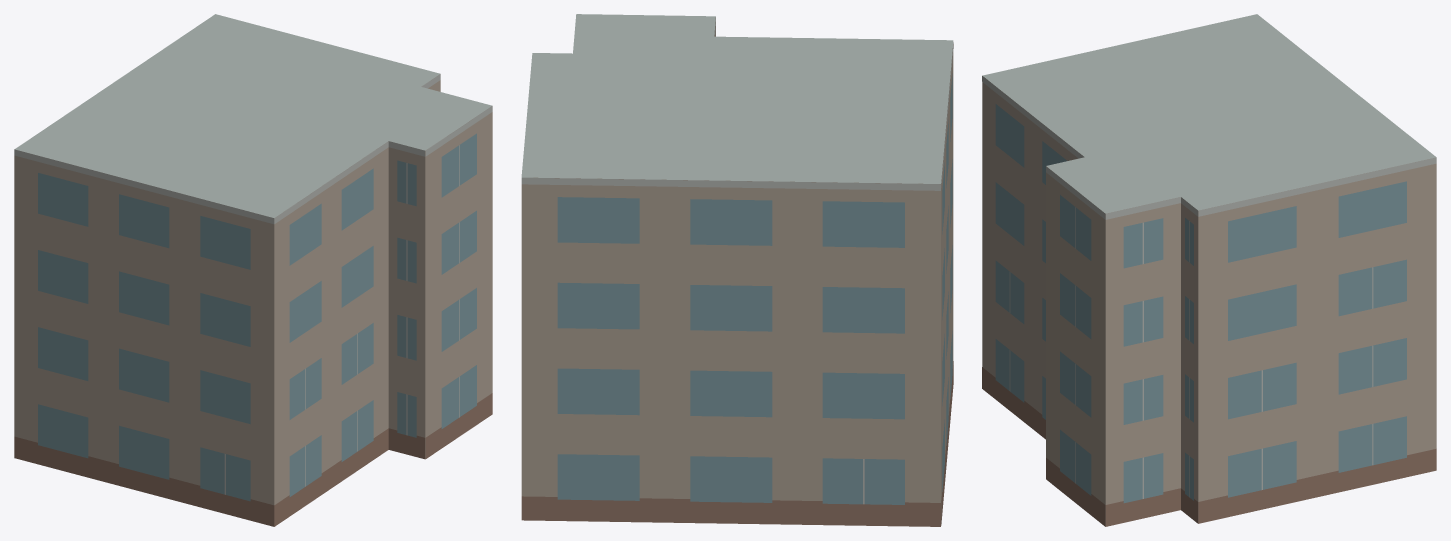
File: residential-94472244-ca74-4740-b246-5358ed37d6cb.glb
3 renders of one model, left to right at view 1: azimuth 30°, elevation 25°; view 2: azimuth 150°, elevation 25°; view 3: azimuth 270°, elevation 25°, orthographic. The views are drawn at different scales.
Parts seen in each view (by area): view 1: residential-94472244-ca74-4740-b246-5358ed37d6cb.tmp; view 2: residential-94472244-ca74-4740-b246-5358ed37d6cb.tmp; view 3: residential-94472244-ca74-4740-b246-5358ed37d6cb.tmp.
Boxes of the visible parts, left/top/right/bottom form: residential-94472244-ca74-4740-b246-5358ed37d6cb.tmp: left=14, top=14, right=492, bottom=526; residential-94472244-ca74-4740-b246-5358ed37d6cb.tmp: left=521, top=14, right=953, bottom=526; residential-94472244-ca74-4740-b246-5358ed37d6cb.tmp: left=982, top=14, right=1436, bottom=526.
Bounding box in the file's own units: 16.69 × 12.2 × 16.05.
